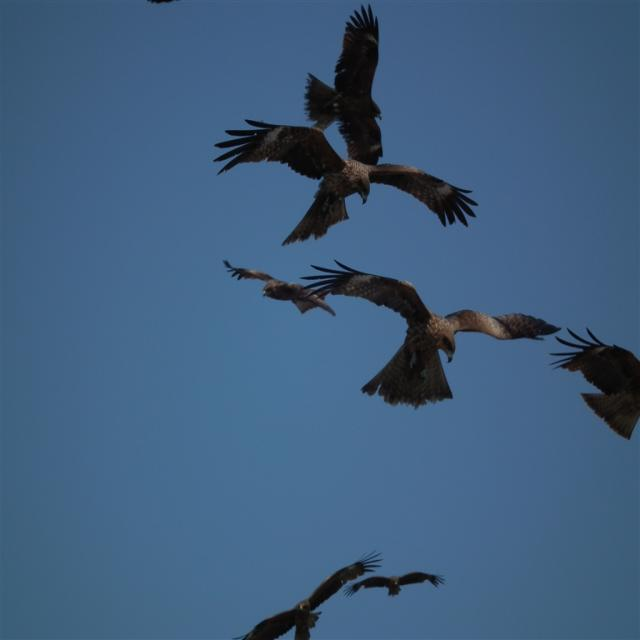bird: (206, 118, 487, 262), (312, 271, 566, 408), (207, 552, 447, 640), (299, 10, 391, 158), (548, 331, 640, 444), (210, 251, 341, 324)
